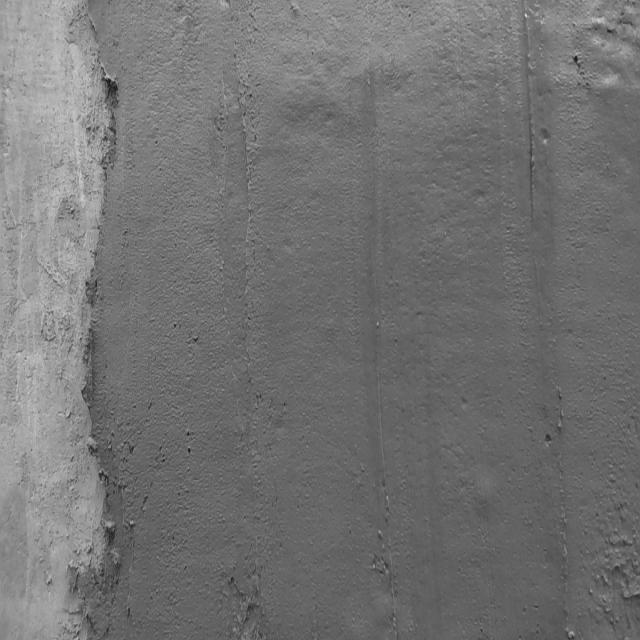trowels marks: (522, 4, 539, 228), (375, 366, 387, 484)
